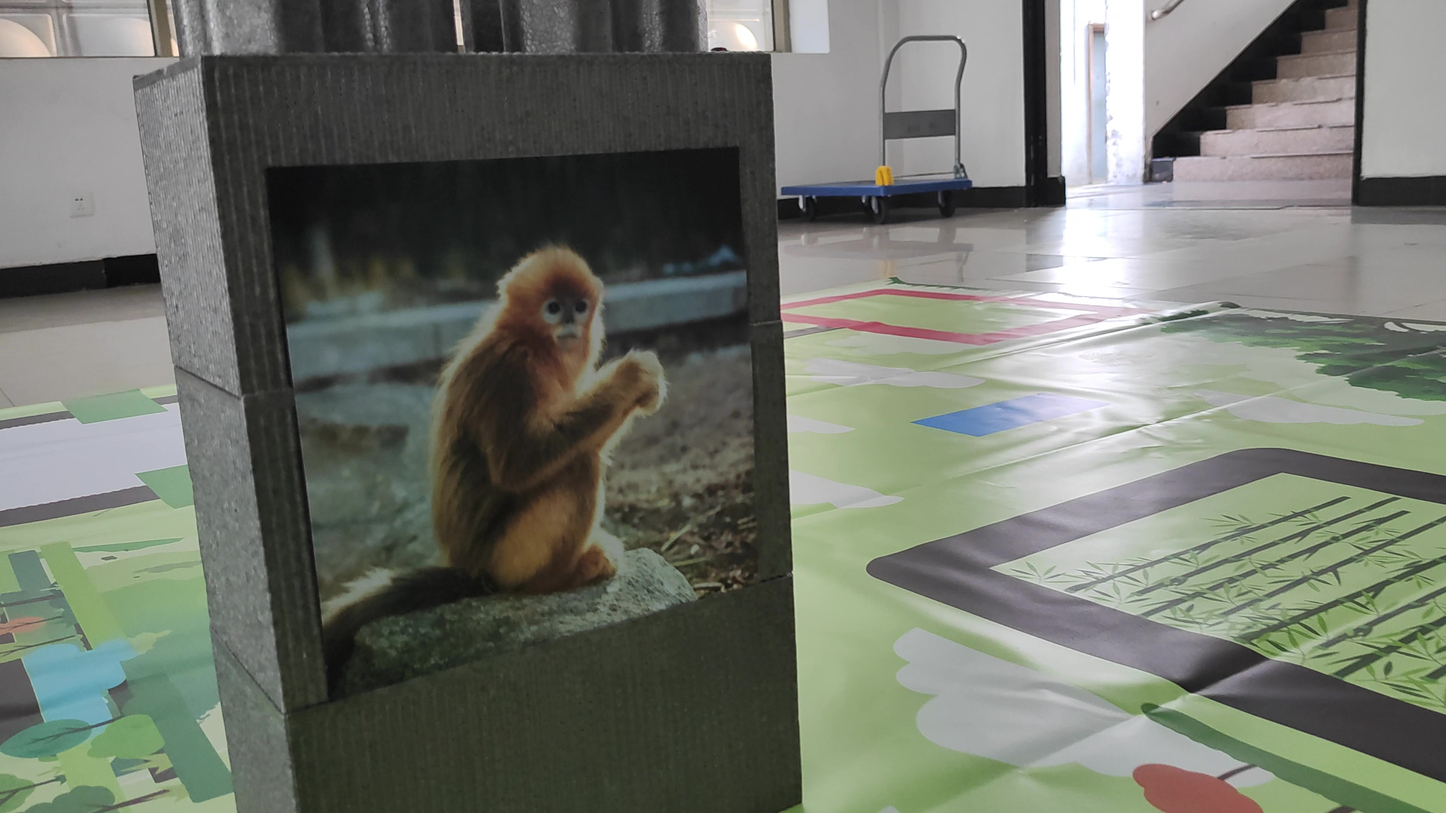monkey: (334, 227, 682, 634)
